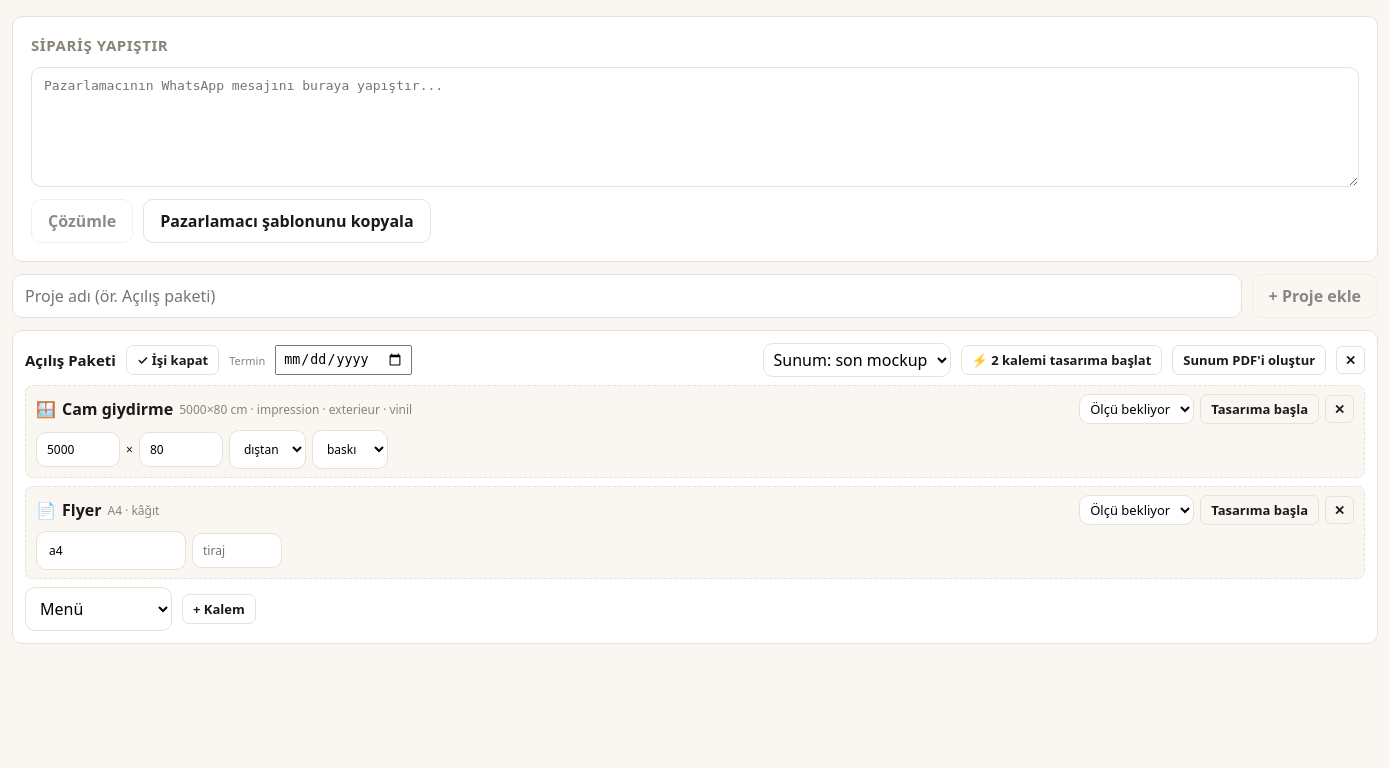
toplu başlatma düğmesi › DÜŞEN KALEM TURU DURDURMAZ — kalanlar denenir, özet düşeni SAYAR
Click the button "⚡ 2 kalemi tasarıma başlat": (1062, 360) [961,345,1162,375]
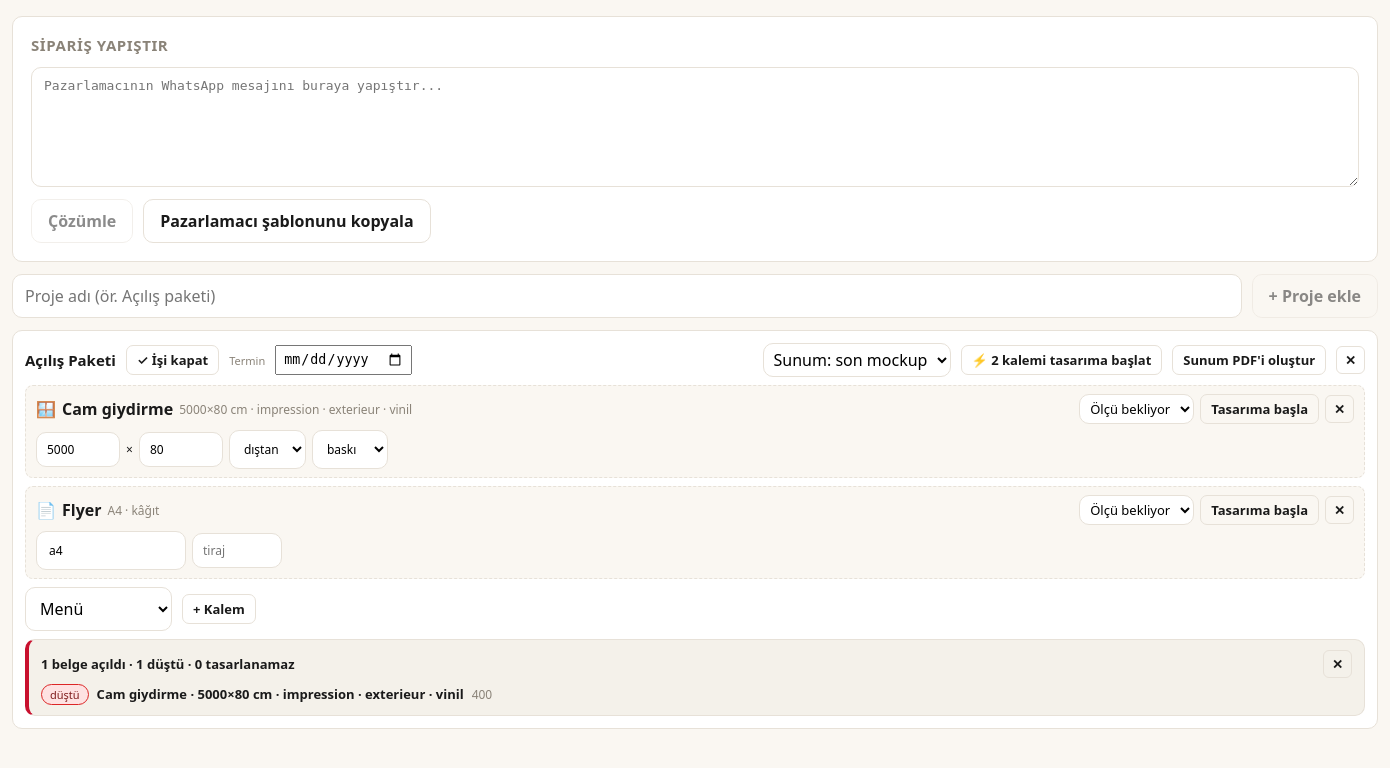
Now the text "1 belge açıldı · 1 düştü · 0 tasarlanamaz" is shown, box [41,655,294,673]
